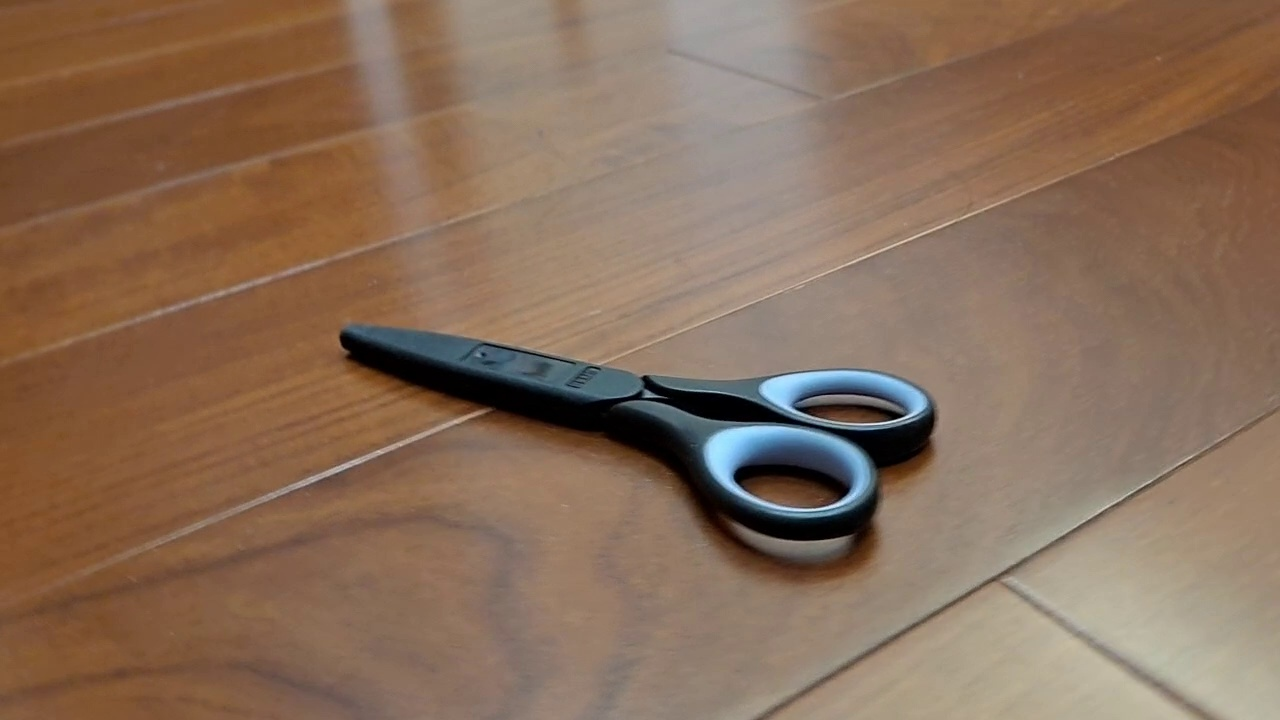scissors: (338, 322, 939, 543)
